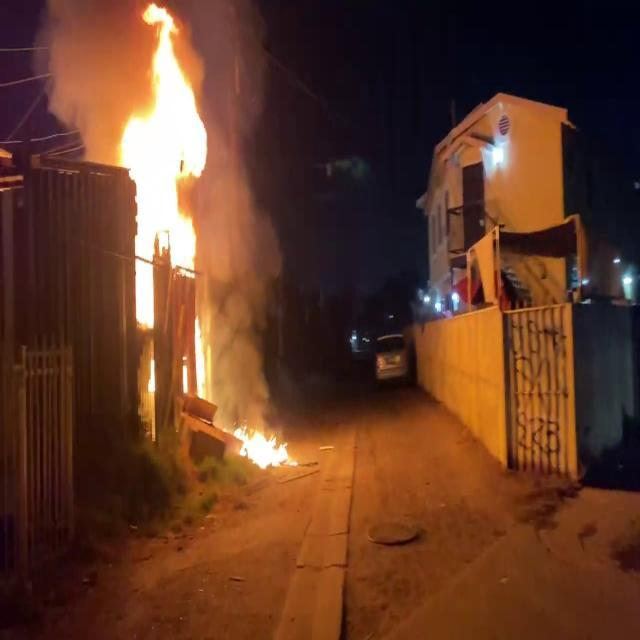Fire: (112, 3, 226, 403), (230, 409, 296, 474)
Smoke: (204, 0, 268, 407)
